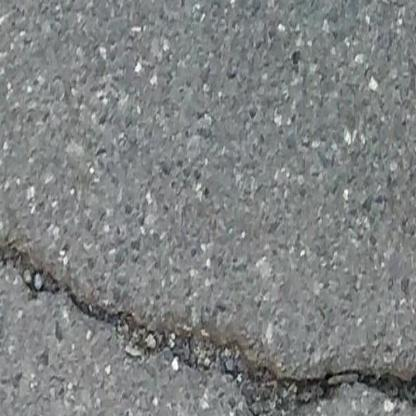Cracks: (0, 237, 416, 416)
